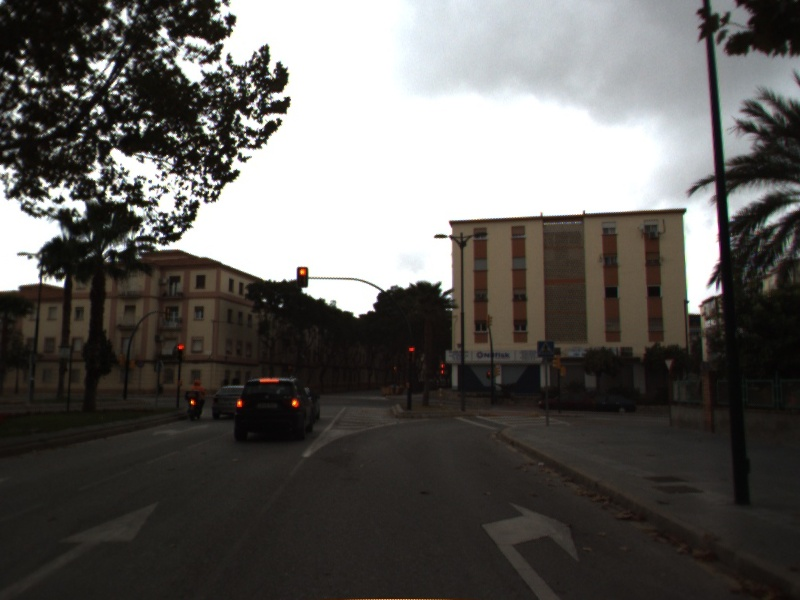RIGHT: (479, 498, 582, 600)
STRAIGHT: (1, 496, 164, 600)
